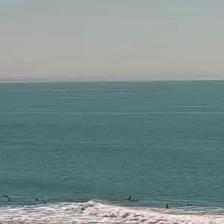surfer: (186, 202, 194, 206), (6, 198, 12, 202), (2, 194, 10, 197), (132, 199, 140, 202), (34, 197, 38, 202), (165, 204, 170, 208), (128, 196, 132, 200), (44, 201, 47, 204)
